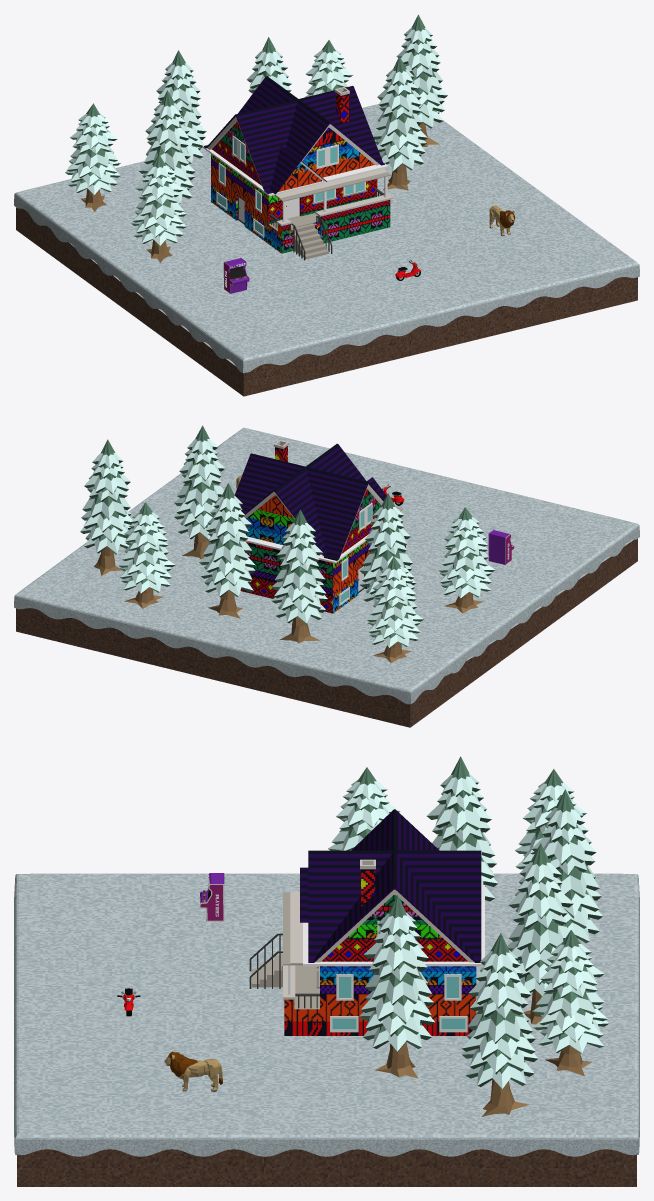
3 renders of one model, top to bottom at view 1: azimuth 30°, elevation 25°; view 2: azimuth 150°, elevation 25°; view 3: azimuth 270°, elevation 25°, orthographic. The views are drawn at different scales.
Visible parts, largest first — view 1: Cube.003, Cube.966, OBJRANDOM_ARCADE; view 2: Cube.003, Cube.966, OBJRANDOM_ARCADE; view 3: Cube.003, Cube.966, ANIMAL_LEON, OBJRANDOM_ARCADE.
Boxes of the visible parts, bbox=[...] form: Cube.003: bbox=[14, 14, 639, 396]; Cube.966: bbox=[202, 76, 393, 260]; OBJRANDOM_ARCADE: bbox=[223, 257, 249, 293]; Cube.003: bbox=[14, 425, 639, 727]; Cube.966: bbox=[235, 440, 405, 613]; OBJRANDOM_ARCADE: bbox=[488, 529, 514, 564]; Cube.003: bbox=[14, 756, 639, 1186]; Cube.966: bbox=[249, 809, 484, 1035]; ANIMAL_LEON: bbox=[164, 1051, 222, 1091]; OBJRANDOM_ARCADE: bbox=[200, 873, 224, 921].
Bounding box in the file's own units: 4040 × 1700 × 4040.
Materials: 41 (7 with a texture image).
